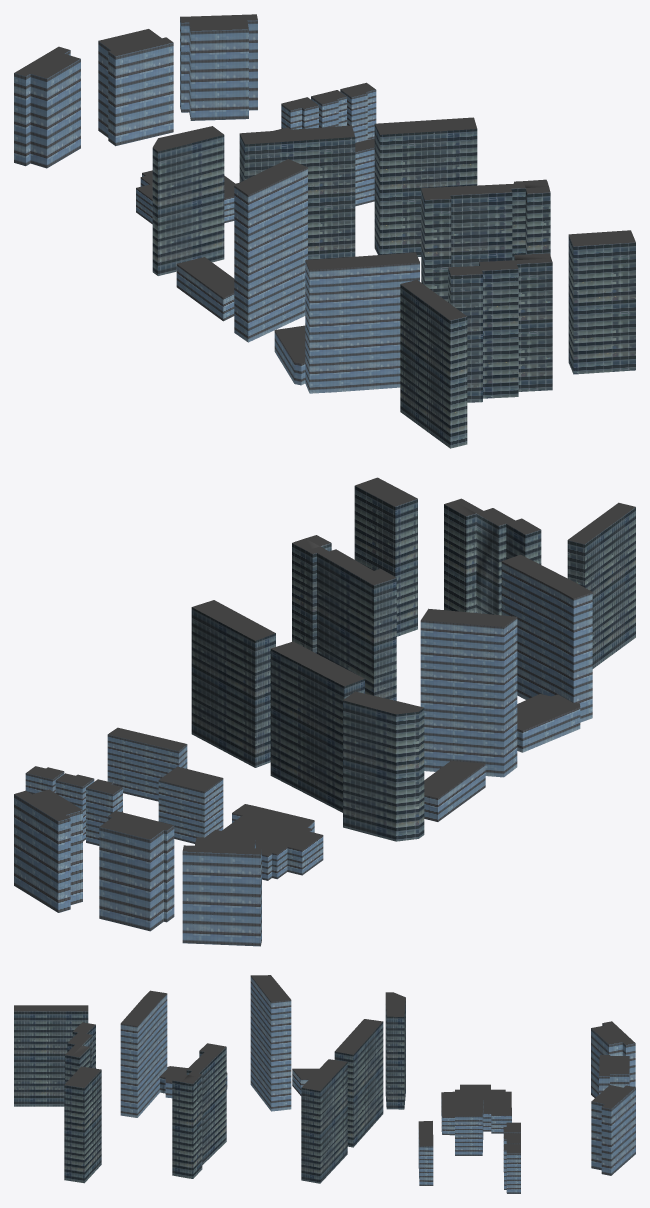
File: Low-Detail-Zone.FBX
3 renders of one model, top to bottom at view 1: azimuth 30°, elevation 25°; view 2: azimuth 150°, elevation 25°; view 3: azimuth 270°, elevation 25°, orthographic. The views are drawn at different scales.
Visible parts, largest first — view 1: Plane016, Object007, Object004, Object003, Object006, Plane017; view 2: Plane016, Object007, Object004, Object003, Object006, Plane017; view 3: Plane016, Object007, Object004, Object003, Object006, Plane017.
Part boxes in pixels (x1,y1,x2,y2): Plane016: [400, 179, 635, 448]; Object007: [152, 117, 477, 275]; Object004: [234, 159, 419, 393]; Object003: [14, 14, 257, 168]; Object006: [136, 82, 376, 224]; Plane017: [176, 257, 234, 321]; Plane016: [292, 477, 635, 700]; Object007: [191, 600, 424, 841]; Object004: [420, 554, 592, 777]; Object003: [14, 789, 261, 946]; Object006: [25, 727, 323, 880]; Plane017: [424, 760, 485, 821]; Plane016: [14, 1005, 226, 1183]; Object007: [301, 992, 405, 1183]; Object004: [120, 975, 291, 1117]; Object003: [591, 1021, 635, 1175]; Object006: [418, 1084, 520, 1193]; Plane017: [292, 1068, 318, 1095].
Bounding box in the file's own units: 179 × 82.08 × 422.
